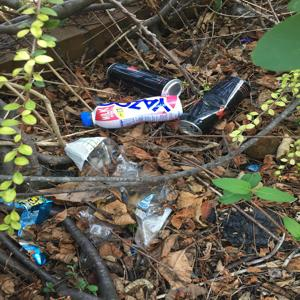metal: (181, 73, 261, 139), (107, 59, 184, 103)
plastic: (65, 132, 168, 224), (12, 190, 60, 275), (79, 104, 95, 134)
plastic bottle: (80, 95, 185, 128)
